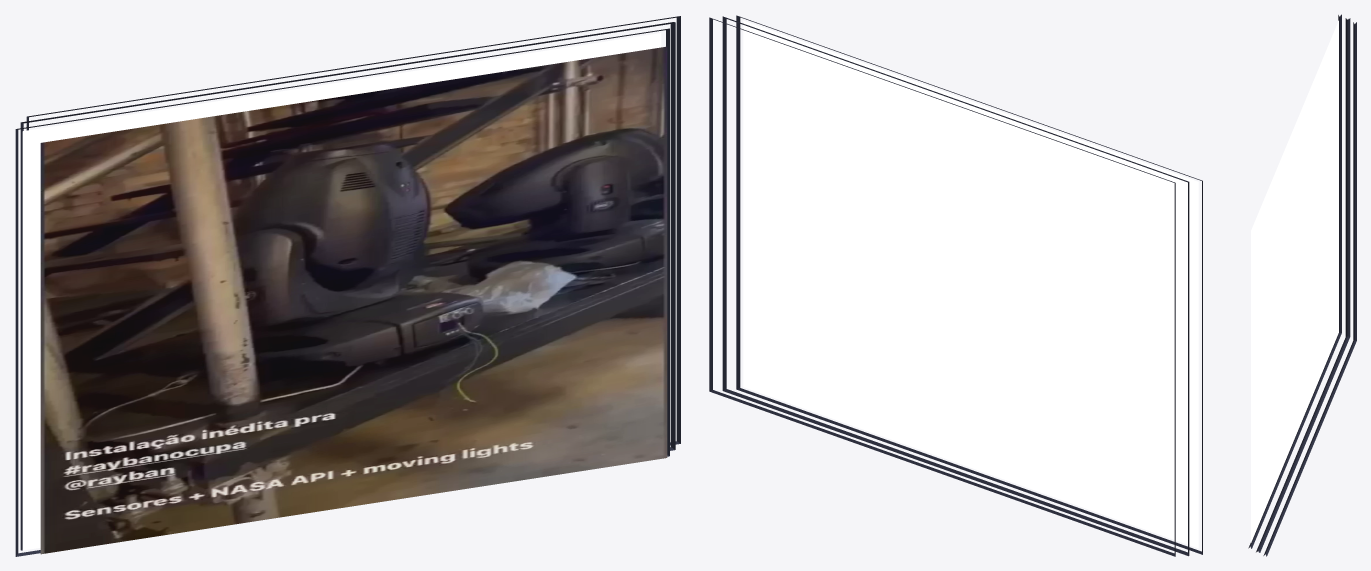
Rendered from TesteCelular2Mobile.glb.
3 views of the same model, side by side, from view 1: azimuth 30°, elevation 25°; view 2: azimuth 150°, elevation 25°; view 3: azimuth 270°, elevation 25° (orthographic). The views are drawn at different scales.
Parts seen in each view (by area): view 1: Plane.001, Plane.003, Plane.004, Plane.005, Plane.007, Plane.006; view 2: Plane.003, Plane.007, Plane.006, Plane.004, Plane.005; view 3: Plane.003, Plane.007, Plane.006, Plane.004, Plane.005.
Part boxes in pixels (box(x1,y1,x2,y2)): Plane.001: box(40, 46, 667, 554); Plane.003: box(22, 33, 661, 550); Plane.004: box(15, 28, 669, 556); Plane.005: box(21, 22, 675, 550); Plane.007: box(26, 16, 680, 445); Plane.006: box(20, 22, 674, 549); Plane.003: box(743, 20, 1198, 548); Plane.007: box(709, 17, 1175, 556); Plane.006: box(722, 17, 1188, 556); Plane.004: box(736, 15, 1202, 554); Plane.005: box(722, 16, 1189, 555); Plane.003: box(1251, 20, 1338, 542); Plane.007: box(1263, 22, 1356, 556); Plane.006: box(1257, 18, 1350, 552); Plane.004: box(1248, 14, 1341, 548); Plane.005: box(1256, 18, 1349, 552).
Size of the model in its own units: 2.82 by 1.87 by 0.6532.
3 materials, 1 textured.
